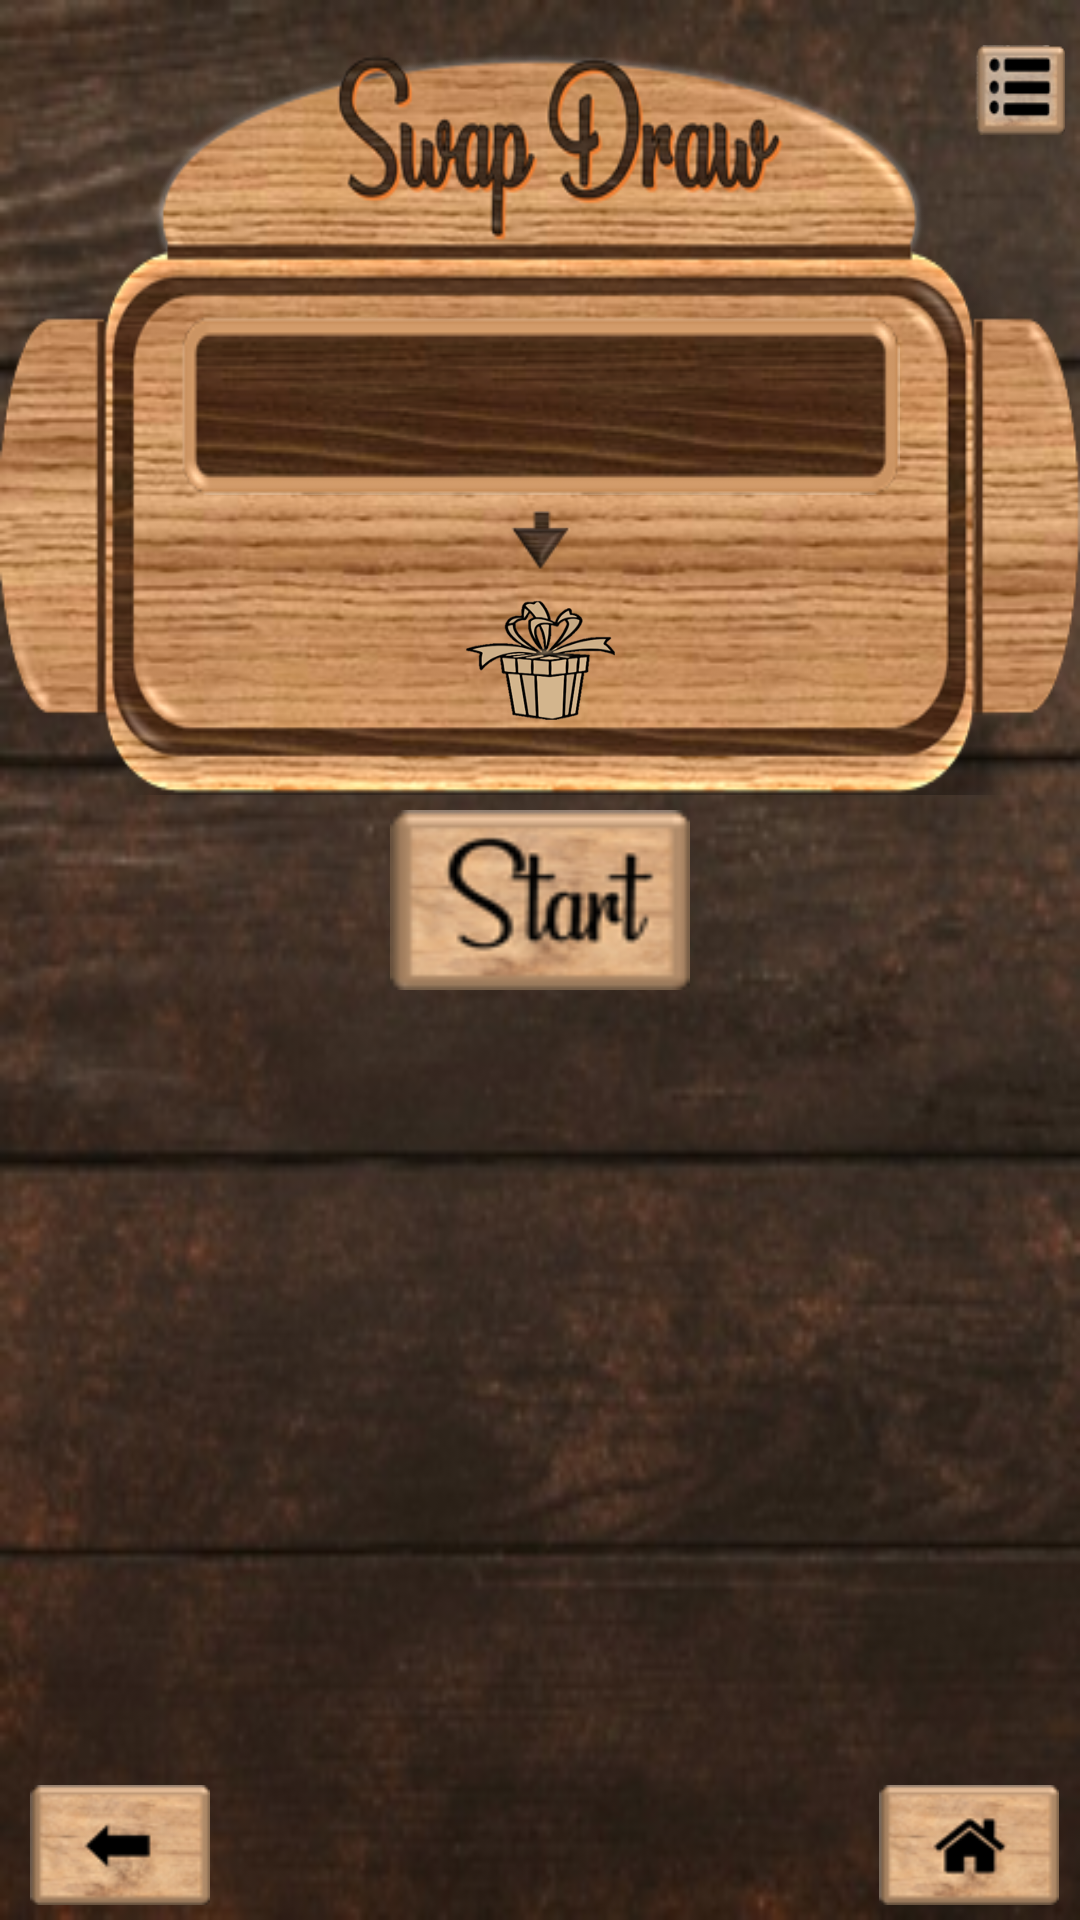

Named icons in this screenshot (1080*1920) and their bounding boxes, (x1, y1, x2, y2):
arrow down: (510, 511, 570, 570)
present: (465, 600, 615, 720)
